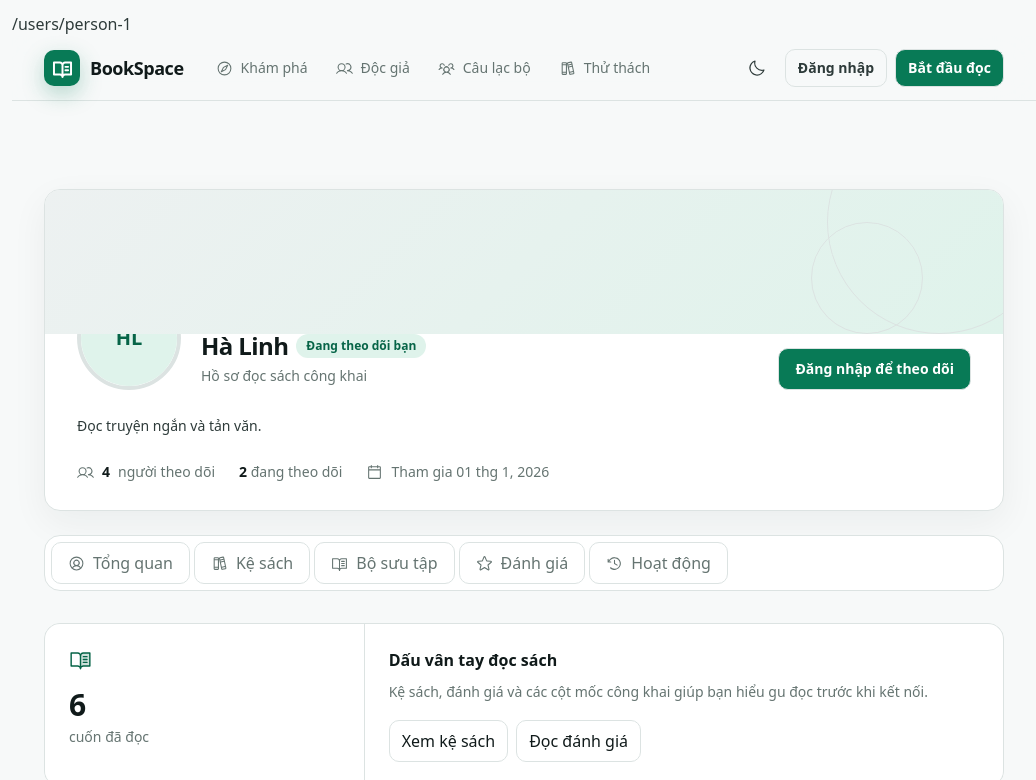
Test: production public profile route › offers guest login-return without inventing a username from the id
This screenshot has width=1036, height=780.
Expected: the heading "Hà Linh" is shown, x1=201 y1=330 x2=288 y2=362
What coordinates should you click on to do the following:
click the link with aria-label "Đăng nhập để theo dõi Hà Linh"
I would click on:
 (875, 369)
Its box is x1=778 y1=348 x2=971 y2=390.
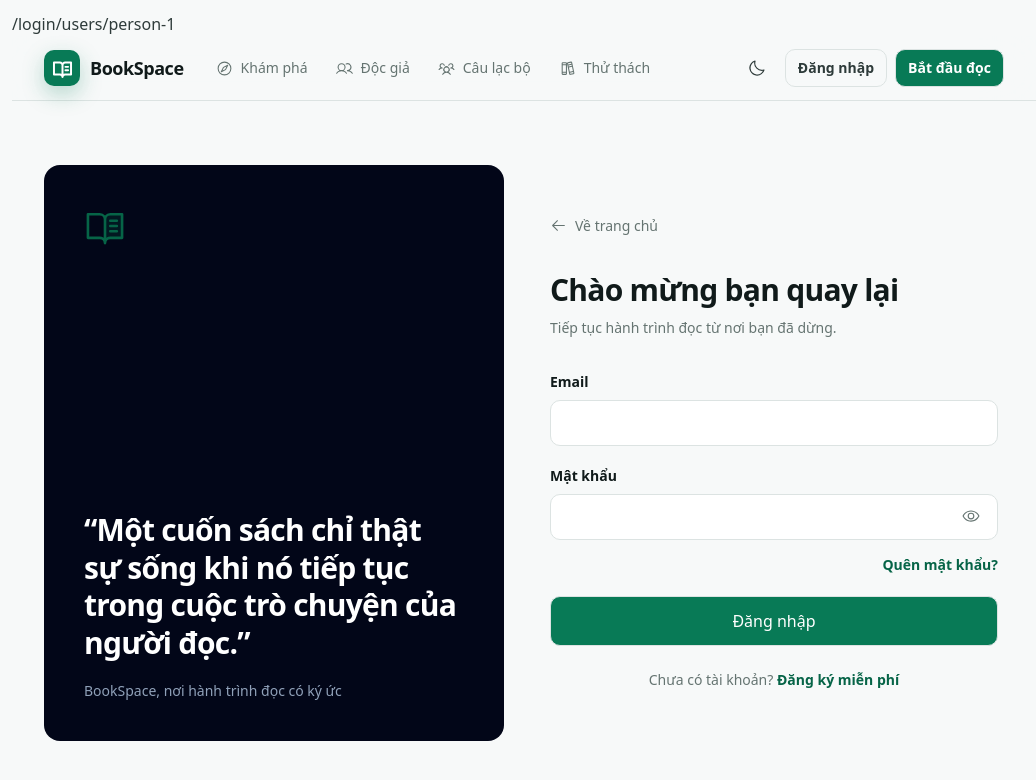
Expected: the text with test id "location-from" reads "/users/person-1", x1=56 y1=13 x2=175 y2=35
Expected: the text with test id "current-location" reads "/login", x1=12 y1=13 x2=56 y2=35
